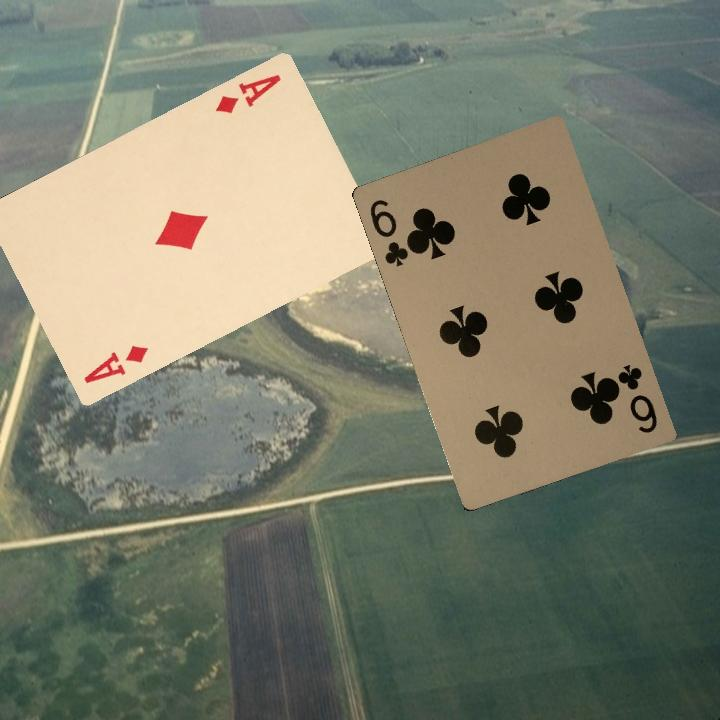6c: (365, 195, 417, 269), (611, 360, 660, 436)
Ad: (212, 70, 284, 117), (79, 341, 151, 386)
